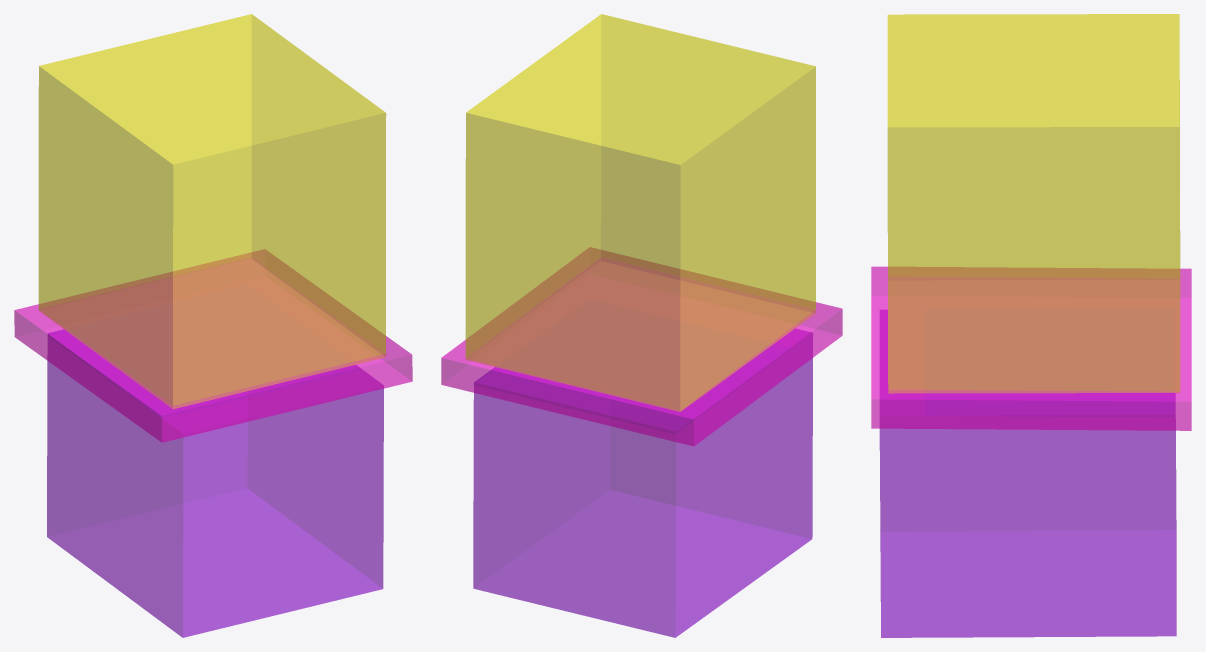
File: ex1_condition.glb
3 views of the same model, side by side, from view 1: azimuth 30°, elevation 25°; view 2: azimuth 150°, elevation 25°; view 3: azimuth 270°, elevation 25° (orthographic). The views are drawn at different scales.
Visible parts, largest first — view 1: part_2, part_0, part_1; view 2: part_2, part_0, part_1; view 3: part_2, part_0, part_1.
Boxes of the visible parts, left/top/right/bottom form: part_2: left=38, top=14, right=386, bottom=408; part_0: left=47, top=329, right=383, bottom=637; part_1: left=14, top=249, right=412, bottom=442; part_2: left=465, top=14, right=815, bottom=411; part_0: left=473, top=329, right=812, bottom=637; part_1: left=441, top=247, right=842, bottom=446; part_2: left=887, top=14, right=1180, bottom=393; part_0: left=879, top=310, right=1176, bottom=637; part_1: left=871, top=266, right=1191, bottom=430.
Bounding box in the file's own units: 0.4515 × 0.8144 × 0.4603.
